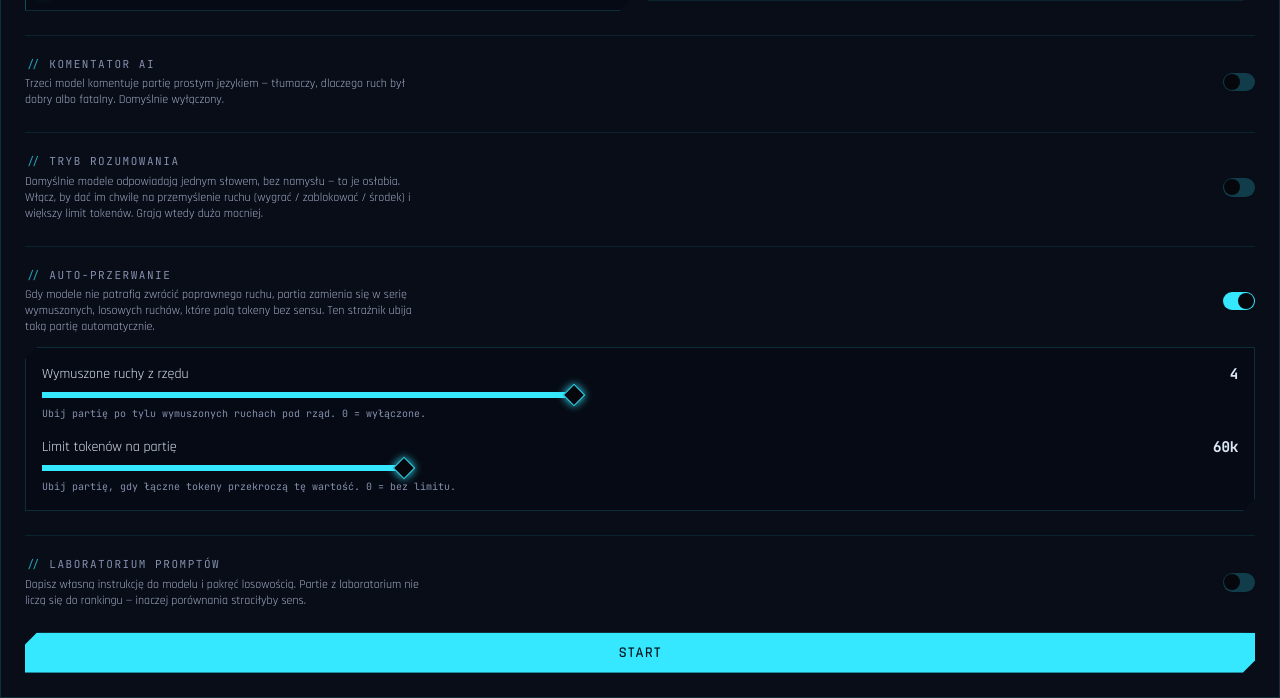
Scenario: SetupScreen › reveals the prompt-duel controls when lab + duel are toggled on (Module F)
(page scrolled)
Expected: the text "Prompt A" is not shown
Click the switch named "Tryb laboratorium".
click(1239, 582)  # box left=1223, top=573, right=1255, bottom=592
(page scrolled)
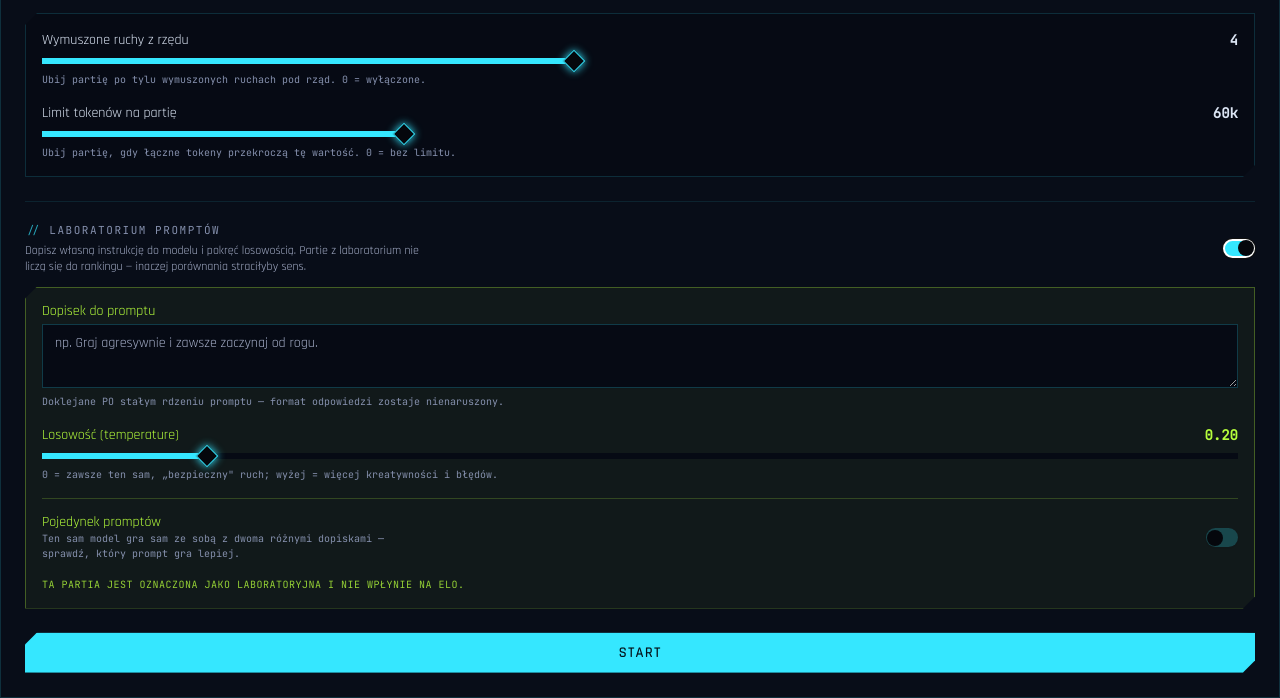
Expected: the text "Dopisek do promptu" is shown, left=42, top=302, right=155, bottom=320
Click the switch named "Pojedynek promptów".
click(1222, 538)  # box left=1206, top=528, right=1238, bottom=547
(page scrolled)
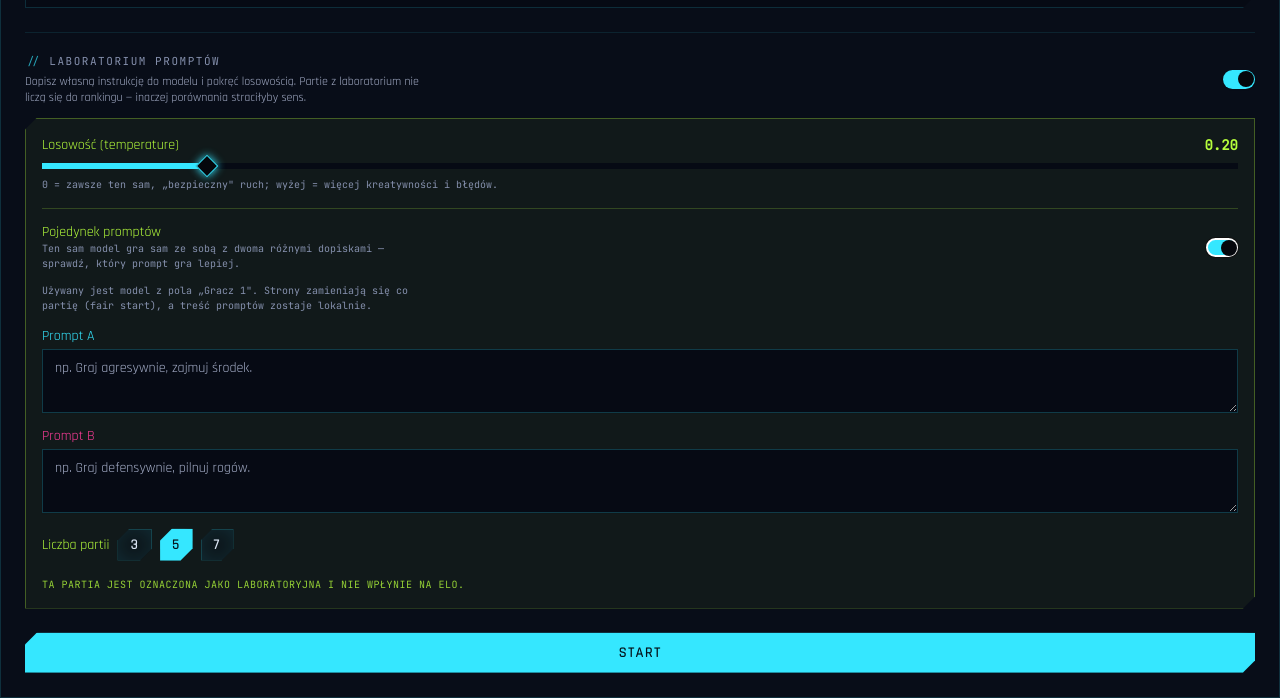
Expected: the text "Prompt A" is shown, left=42, top=327, right=94, bottom=345
Expected: the text "Prompt B" is shown, left=42, top=427, right=95, bottom=445
Expected: the button "5" is shown, left=160, top=529, right=192, bottom=561
